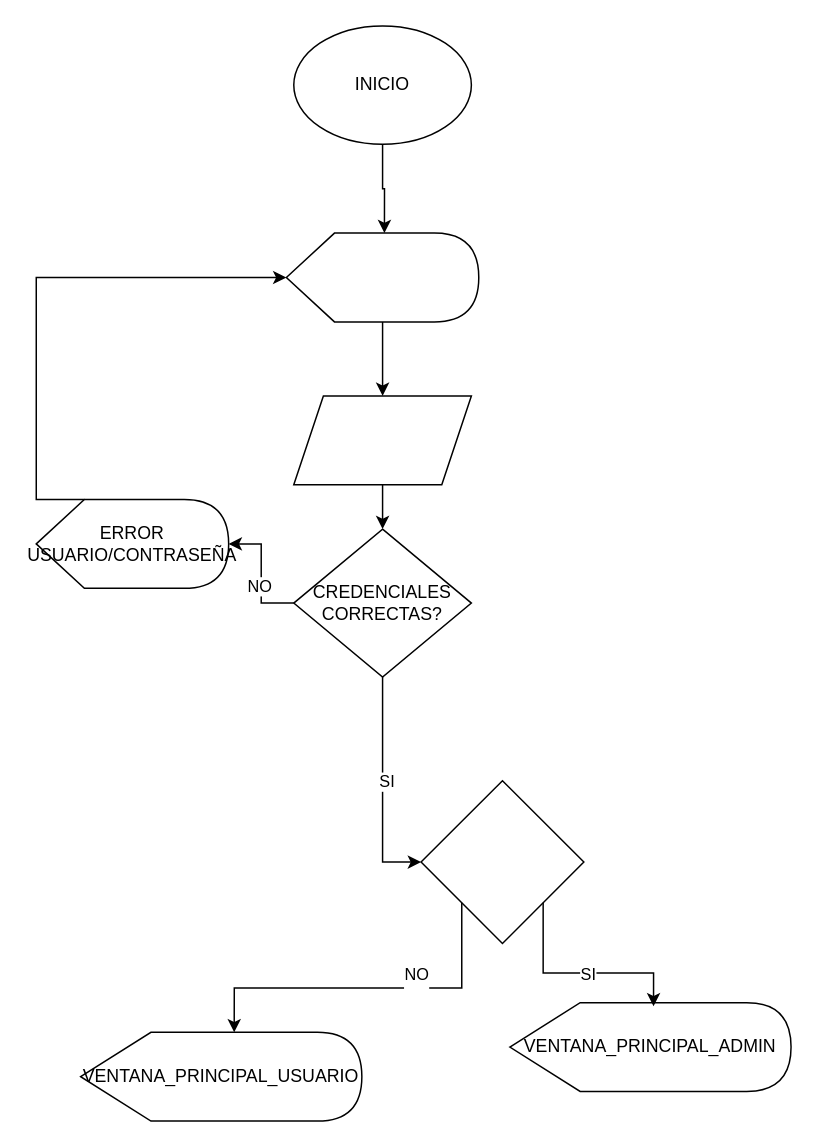
Some shapes in this 817 by 1147 pixel diagram are drawn without their labels. The shapes that lost their labels are listed below. From the top down, each one's box as (x1, y1, x2, y2) in pixels, then its label:
(285, 232, 479, 322): VENTANA_INICIO
(292, 394, 471, 485): LEER CREDENCIALES
(420, 779, 584, 944): ES ADMIN?
